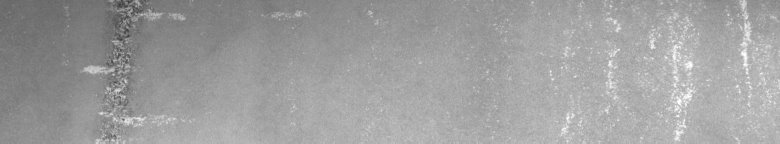hc: (80, 4, 186, 136)
